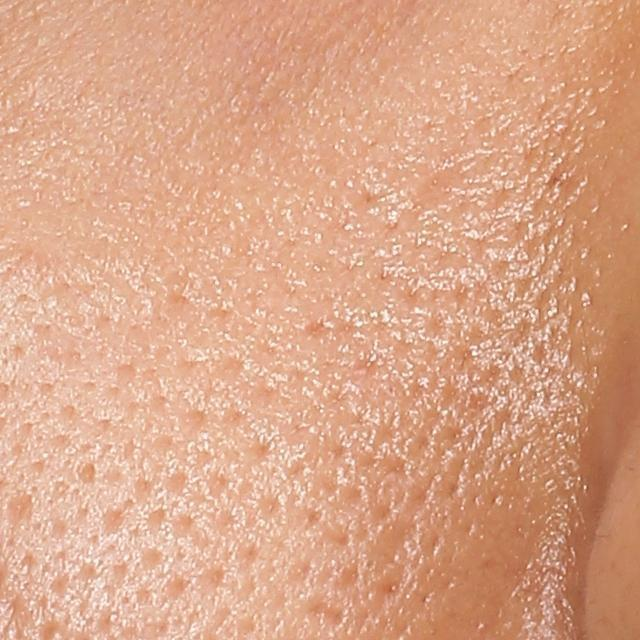atrophic_scar: (408, 149, 480, 231), (39, 278, 99, 316), (310, 597, 348, 632), (4, 491, 32, 532)
